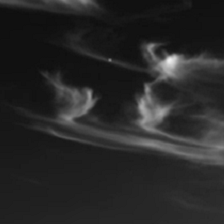Target: (108, 58, 112, 62)
